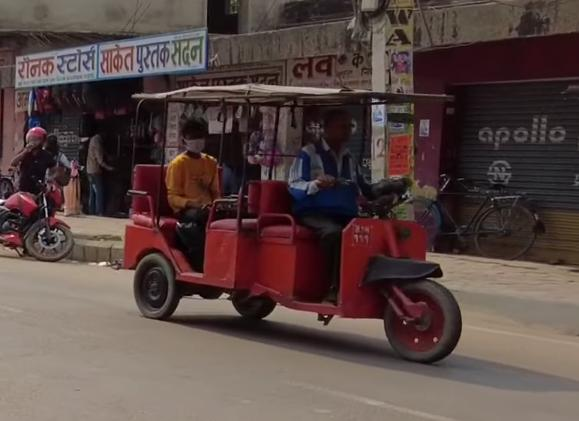bike: (0, 175, 78, 265)
e-rickshaw: (121, 68, 464, 360)
